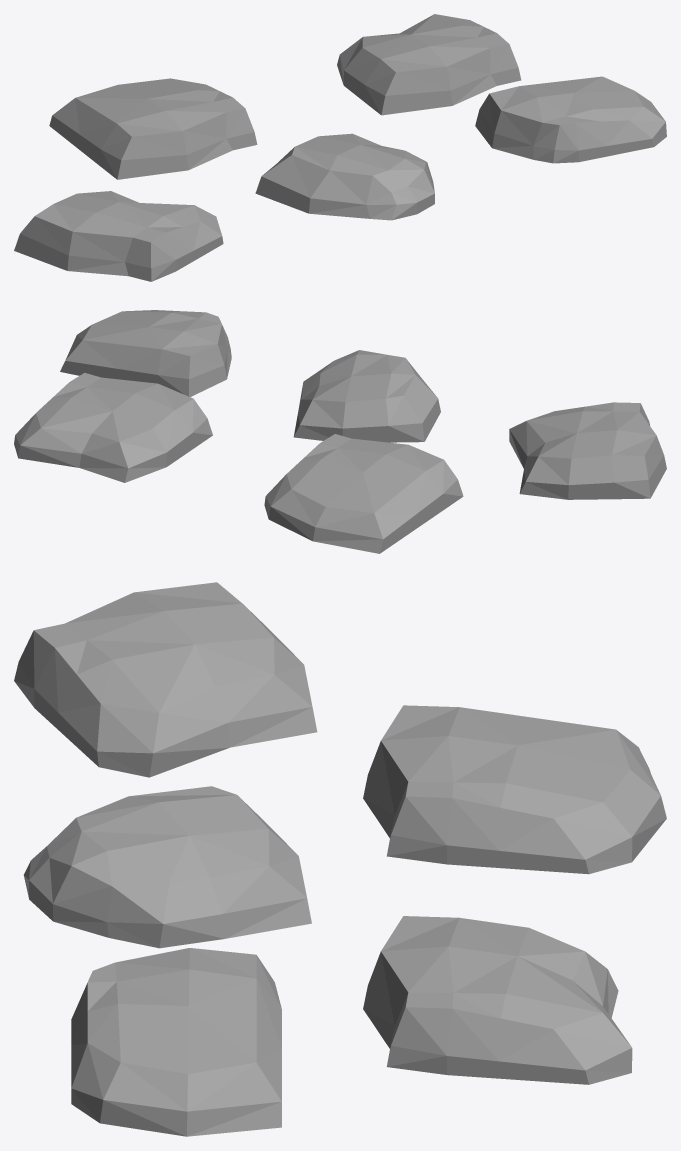
The model's file is RockDecal_01_vf.FBX.
3 views of the same model, one above another, from view 1: azimuth 30°, elevation 25°; view 2: azimuth 150°, elevation 25°; view 3: azimuth 270°, elevation 25° (orthographic). The views are drawn at different scales.
Visible parts, largest first — view 1: Box001; view 2: Box001; view 3: Box001.
Part boxes in pixels (x1,y1,x2,y2): Box001: [14, 14, 666, 281]; Box001: [14, 310, 666, 553]; Box001: [14, 582, 666, 1136].
Size of the model in its own units: 121 by 8.66 by 66.95.
Materials: 1 (1 with a texture image).
